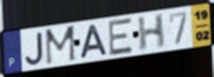7: (168, 10, 189, 47)
A: (79, 24, 109, 60)
E: (108, 17, 134, 58)
H: (137, 12, 166, 53)
J: (24, 30, 45, 67)
M: (44, 24, 78, 68)
